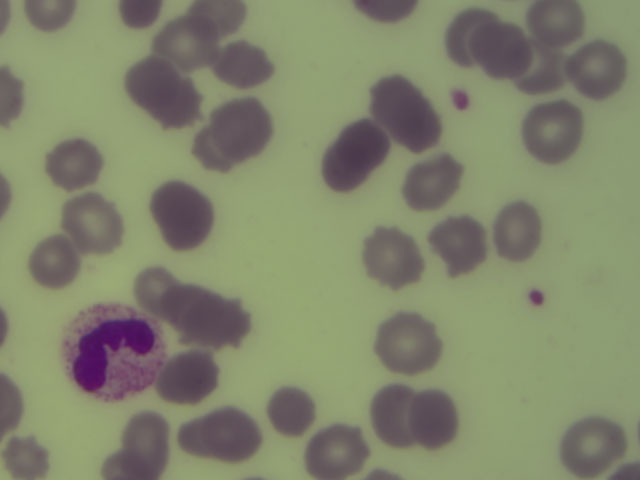Platelets: (443, 86, 478, 116), (522, 284, 550, 313)
RBC: (303, 422, 367, 480), (113, 418, 172, 480), (430, 214, 489, 275), (401, 151, 460, 212), (522, 103, 581, 164), (568, 39, 627, 100), (380, 311, 439, 372), (151, 187, 210, 248), (324, 126, 383, 187), (377, 80, 436, 141), (208, 101, 267, 162), (135, 62, 194, 123), (560, 414, 619, 475), (487, 201, 546, 262), (359, 226, 418, 287), (190, 407, 257, 458), (59, 198, 124, 250), (157, 350, 219, 404), (408, 388, 460, 452), (153, 15, 217, 67), (213, 41, 280, 90), (370, 380, 419, 446), (185, 299, 252, 347), (517, 37, 569, 94), (45, 139, 104, 189), (474, 21, 526, 77), (263, 384, 313, 437), (28, 238, 81, 287), (1, 434, 57, 480), (526, 1, 584, 42), (133, 264, 181, 313), (183, 1, 246, 38), (443, 8, 482, 63), (19, 1, 80, 34), (1, 64, 30, 129), (116, 1, 163, 30)
WBC: (63, 305, 158, 400)
